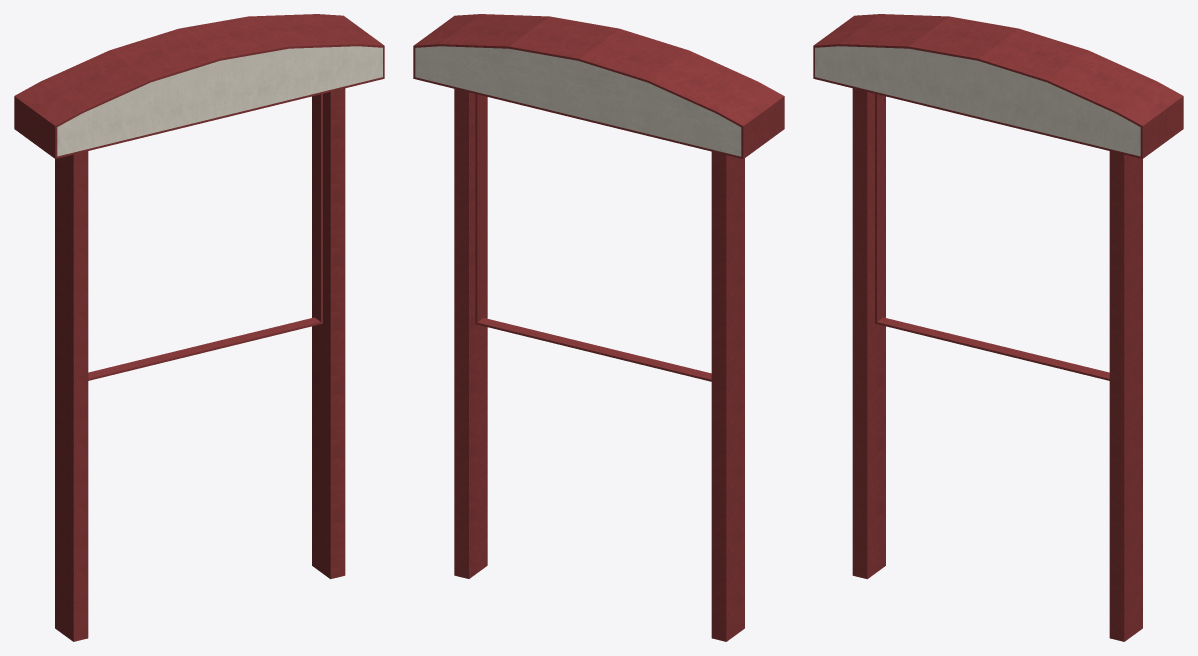
The model's file is sign-narrow.gltf.
The picture shows the model from 3 angles, left to right: view 1: azimuth 30°, elevation 25°; view 2: azimuth 150°, elevation 25°; view 3: azimuth 330°, elevation 25°; orthographic projection.
Visible parts, largest first — view 1: sign, frame-narrow; view 2: sign, frame-narrow; view 3: sign, frame-narrow.
Part boxes in pixels (x1,y1,x2,y2): sign: (14, 14, 384, 641); frame-narrow: (88, 94, 322, 380); sign: (413, 14, 784, 641); frame-narrow: (475, 94, 711, 381); sign: (813, 14, 1183, 641); frame-narrow: (875, 94, 1109, 380).
Bounding box in the file's own units: 1.24 × 2 × 0.2673.
4 materials, 4 textured.
